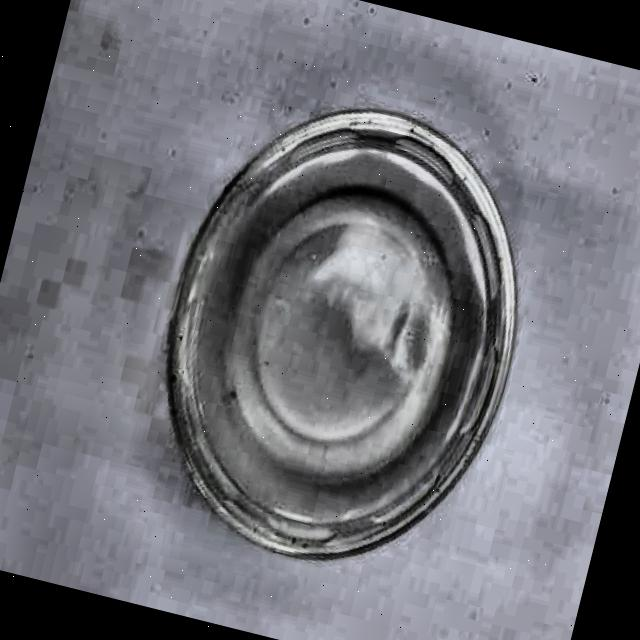plastic: (122, 72, 564, 592)
